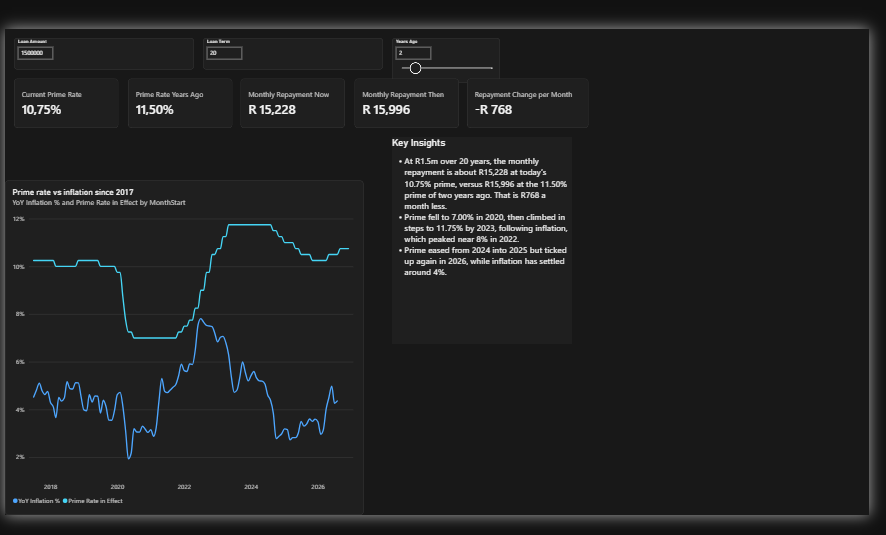

Layout of this report page (visuals, bound fields, positions):
{"tool":"powerbi","page":{"name":"Household impact","canvas":[1920,1080],"ordinal":1},"visuals":[{"type":"slicer","fields":{"Values":["Loan Amount.Loan Amount"]},"box":[20,20,400,70],"z":0},{"type":"slicer","fields":{"Values":["Loan Term.Loan Term"]},"box":[440,20,400,70],"z":1},{"type":"slicer","fields":{"Values":["Years Ago.Years Ago"]},"box":[860,20,240,100],"z":2},{"type":"cardVisual","fields":{"Data":["Rates.Monthly Repayment Now"]},"box":[524,110,232,110],"z":4},{"type":"cardVisual","fields":{"Data":["Rates.Current Prime Rate"]},"box":[20,110,232,110],"z":5},{"type":"cardVisual","fields":{"Data":["Rates.Prime Rate Years Ago"]},"box":[272,110,232,110],"z":6},{"type":"cardVisual","fields":{"Data":["Rates.Repayment Change per Month"]},"box":[1026.7,110,270,110],"z":7},{"type":"cardVisual","fields":{"Data":["Rates.Monthly Repayment Then"]},"box":[776,110,232,110],"z":8},{"type":"lineChart","title":"Prime rate vs inflation since 2017","fields":{"Category":["DateTable.MonthStart"],"Y":["CPI.YoY Inflation %","Rates.Prime Rate in Effect"]},"box":[0,336.7,796.7,743.3],"z":9},{"type":"textbox","title":"Key Insights","box":[860,240,400,460],"z":10}]}

Visuals, with their boxes on the page's 1920x1080 design canvas (x1, y1, x2, y2). These are canvas units, not pixel positions in the 886x535 screenshot, which may show the page scaled, cropped or inside an application window:
slicer - Loan Amount.Loan Amount: pyautogui.locateOnScreen(20, 20, 420, 90)
slicer - Loan Term.Loan Term: pyautogui.locateOnScreen(440, 20, 840, 90)
slicer - Years Ago.Years Ago: pyautogui.locateOnScreen(860, 20, 1100, 120)
cardVisual - Rates.Monthly Repayment Now: pyautogui.locateOnScreen(524, 110, 756, 220)
cardVisual - Rates.Current Prime Rate: pyautogui.locateOnScreen(20, 110, 252, 220)
cardVisual - Rates.Prime Rate Years Ago: pyautogui.locateOnScreen(272, 110, 504, 220)
cardVisual - Rates.Repayment Change per Month: pyautogui.locateOnScreen(1027, 110, 1297, 220)
cardVisual - Rates.Monthly Repayment Then: pyautogui.locateOnScreen(776, 110, 1008, 220)
"Prime rate vs inflation since 2017" lineChart: pyautogui.locateOnScreen(0, 337, 797, 1080)
"Key Insights" textbox: pyautogui.locateOnScreen(860, 240, 1260, 700)
